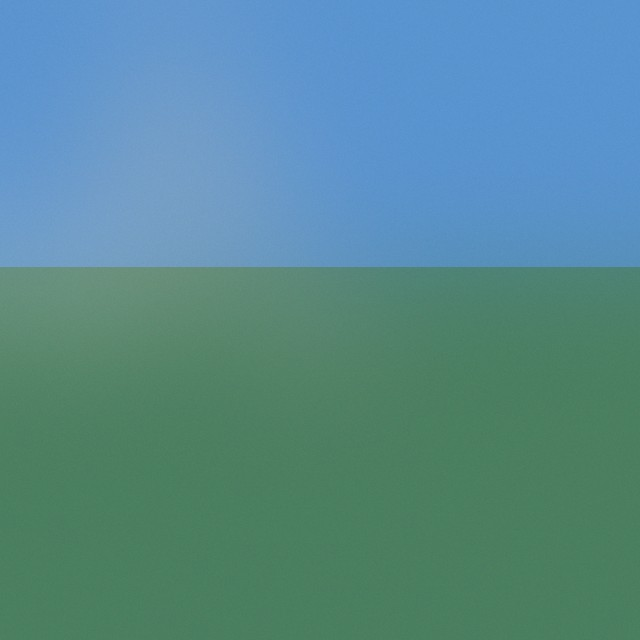smoke: (66, 85, 324, 343)
